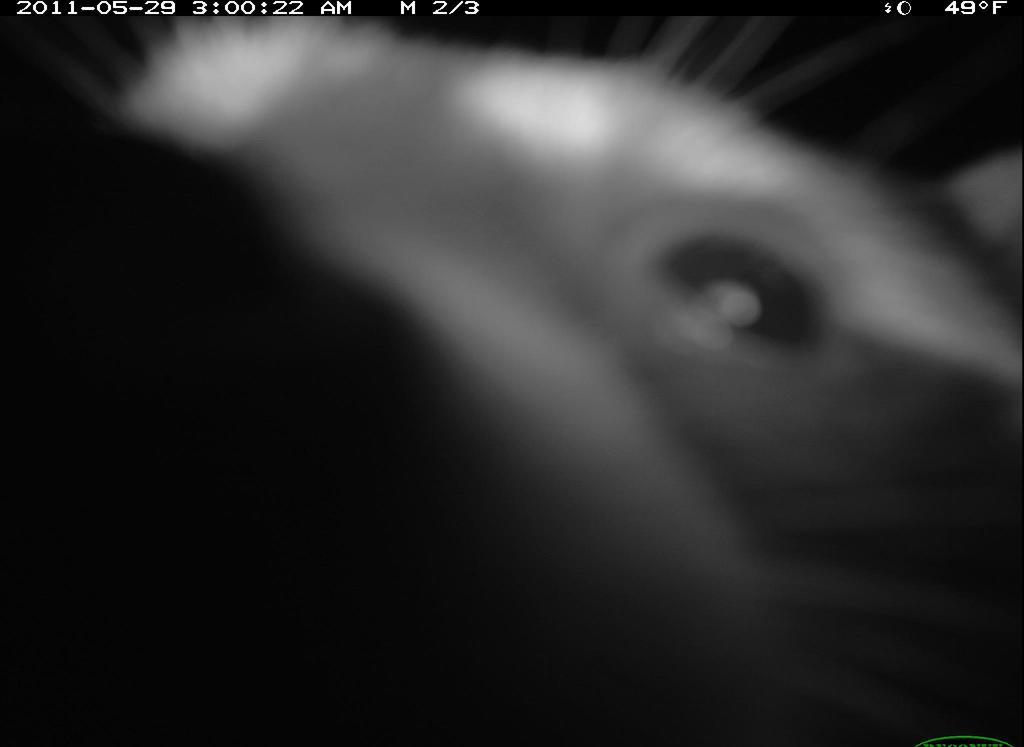raccoon: (94, 16, 1024, 747)
